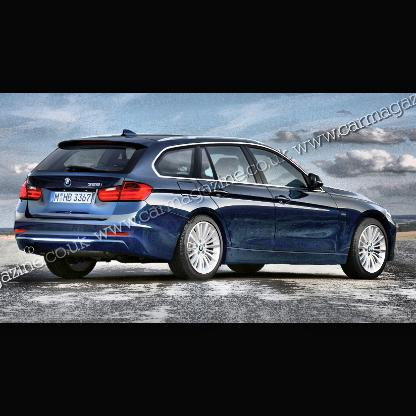BMW 3 Series Wagon 2012: (5, 119, 404, 300)
